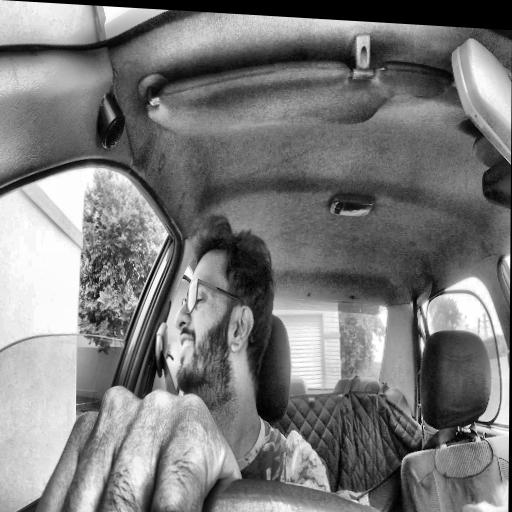drowsy: (174, 214, 275, 417)
